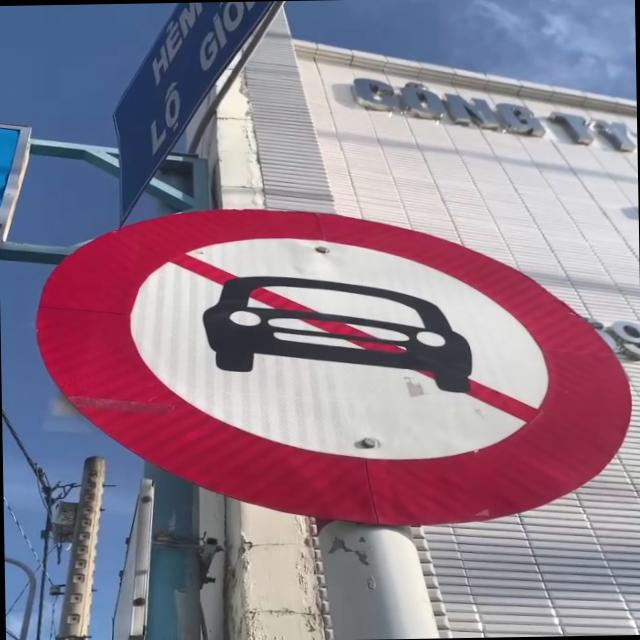Cam_O_To: (34, 196, 630, 534)
